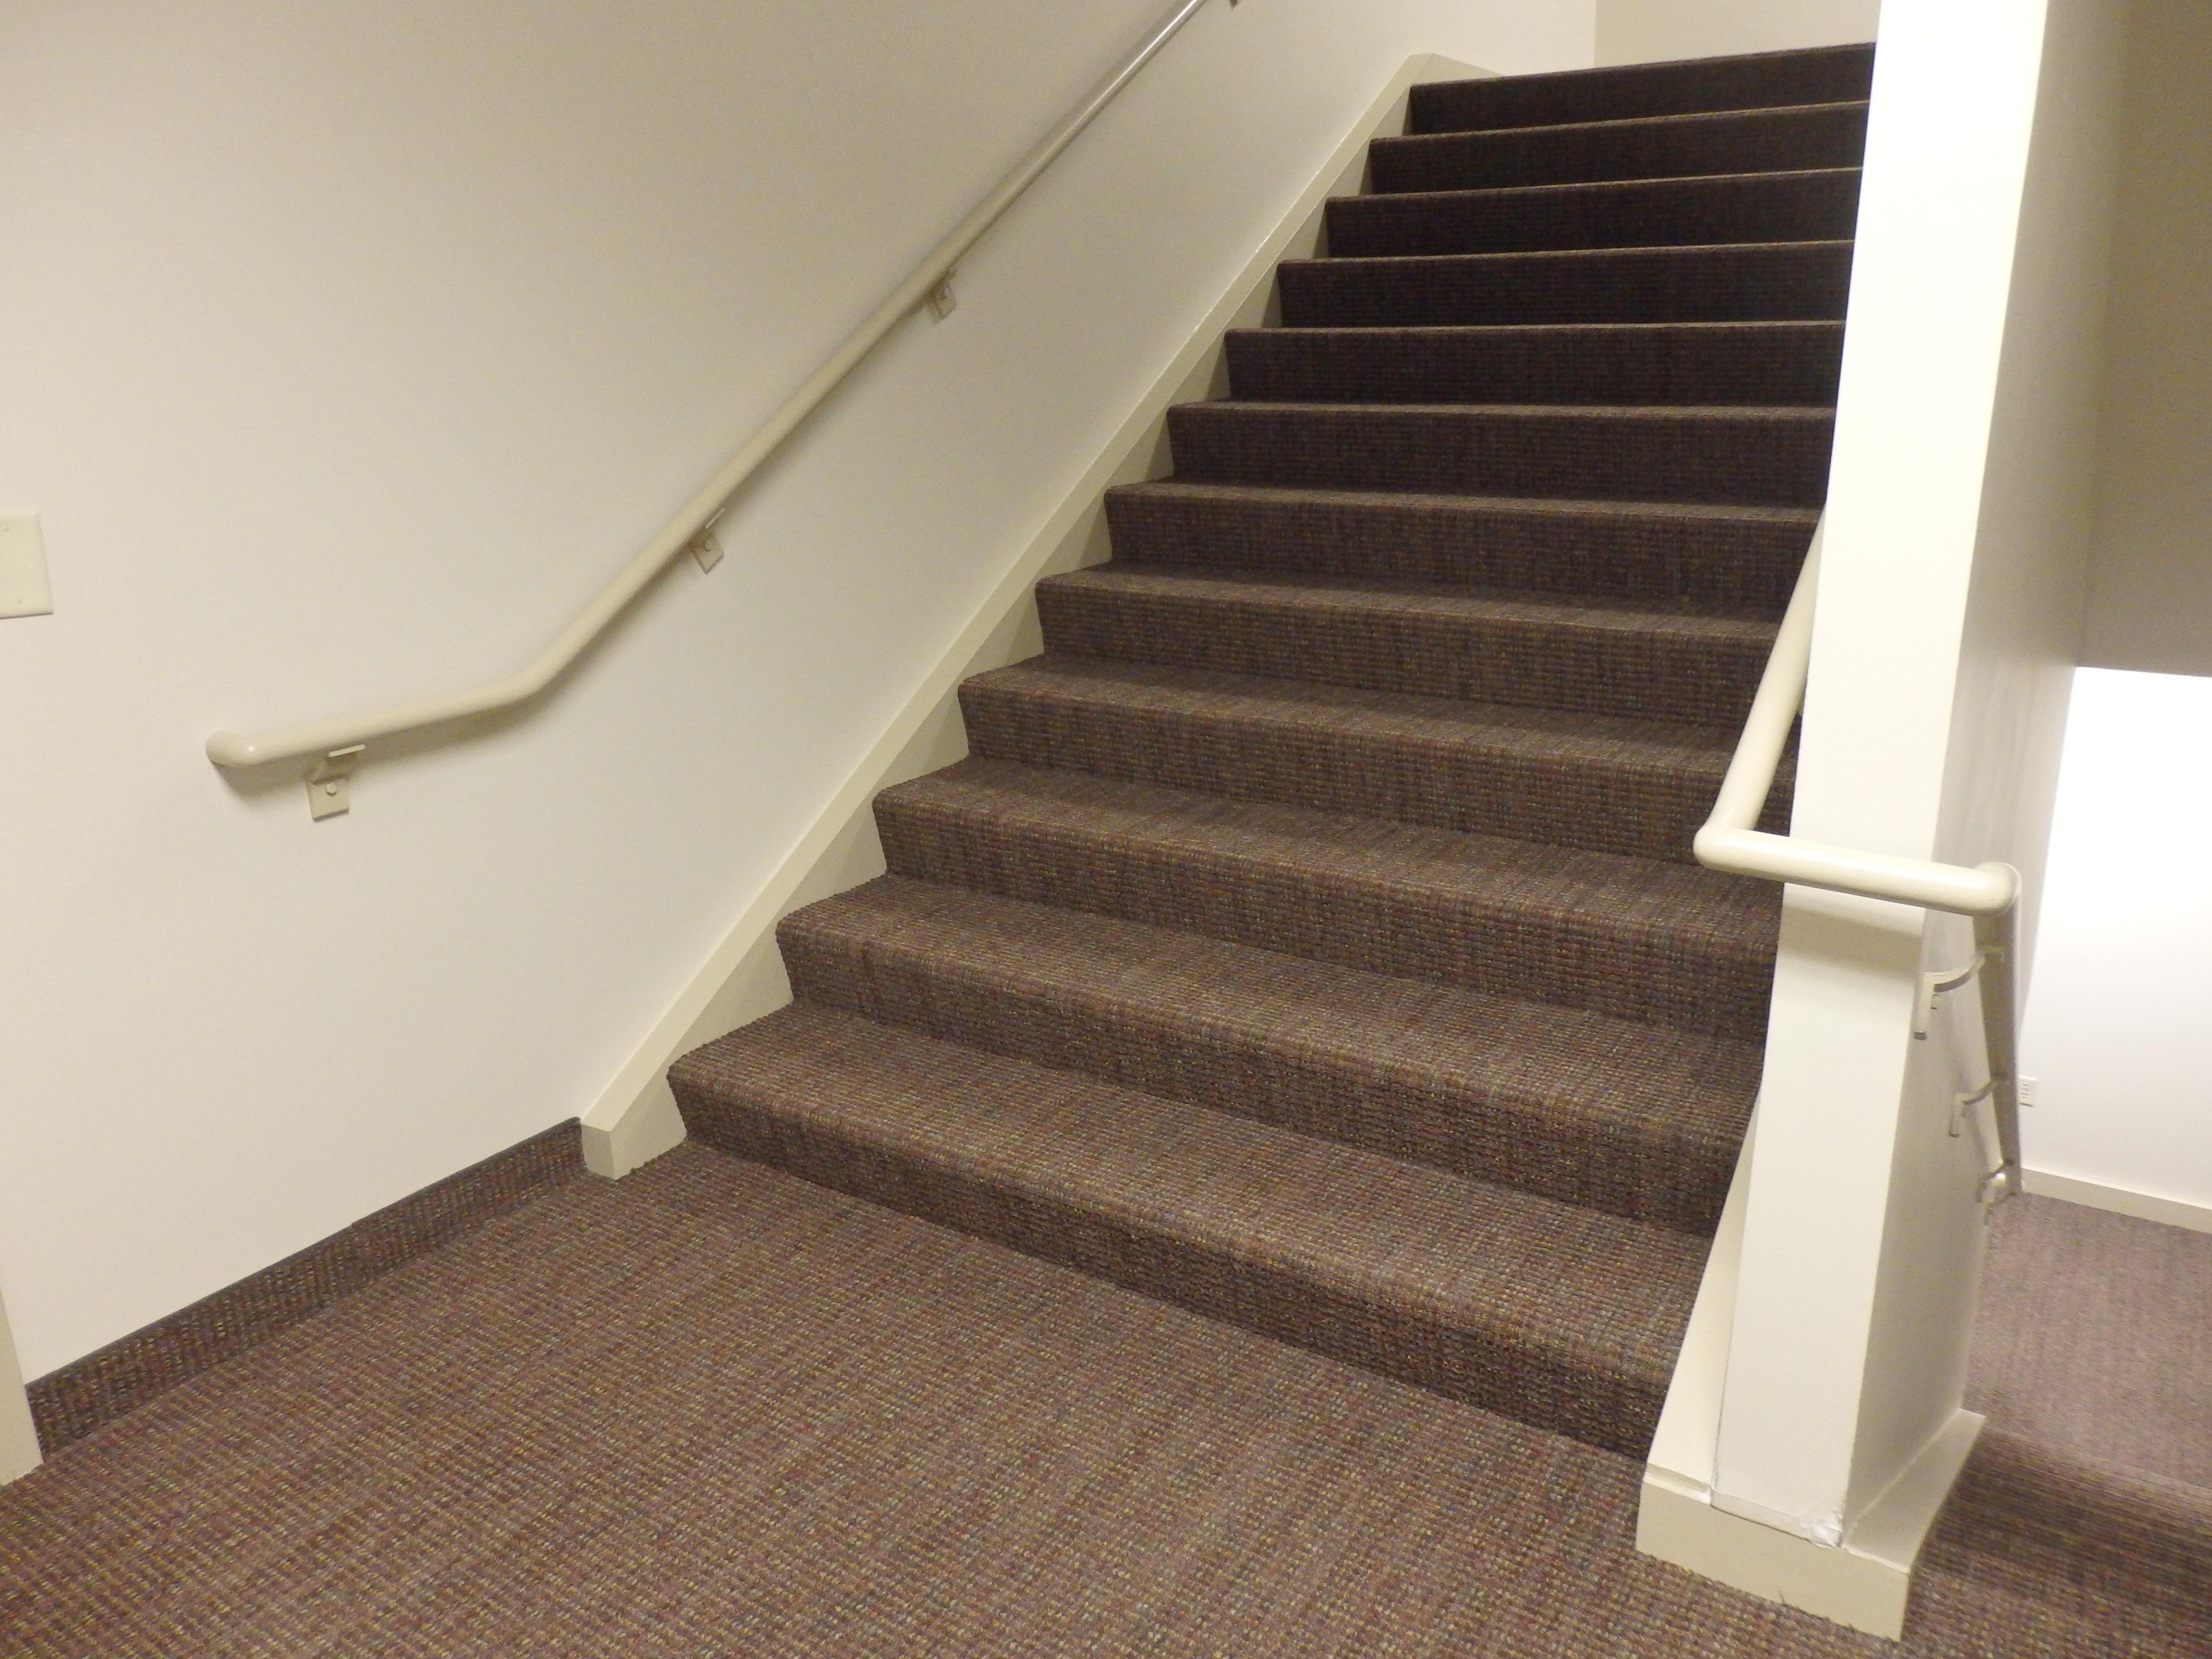stairs_up: (674, 44, 1871, 1399)
